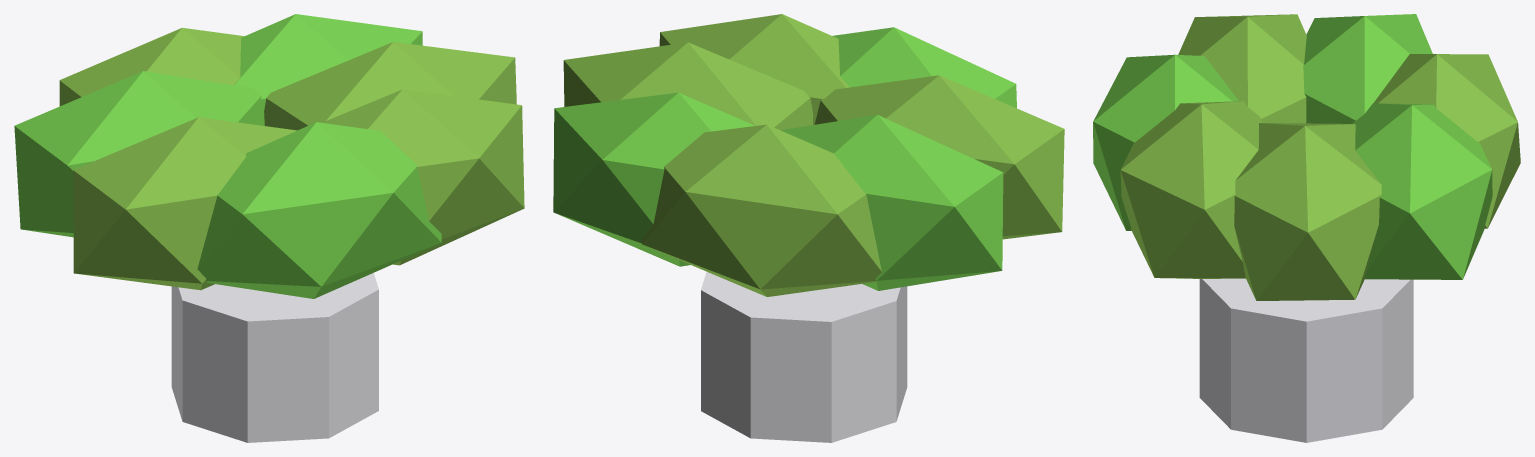
Rendered from hydro_lettuce_head.glb.
3 views of the same model, side by side, from view 1: azimuth 30°, elevation 25°; view 2: azimuth 150°, elevation 25°; view 3: azimuth 270°, elevation 25° (orthographic).
Parts seen in each view (by area): view 1: lettuce_head; view 2: lettuce_head; view 3: lettuce_head.
Boxes of the visible parts, box(x1,y1,x2,y2) form: lettuce_head: box(14, 14, 524, 442); lettuce_head: box(553, 14, 1064, 442); lettuce_head: box(1093, 14, 1520, 442).
Size of the model in its own units: 0.4058 by 0.2734 by 0.3195.
